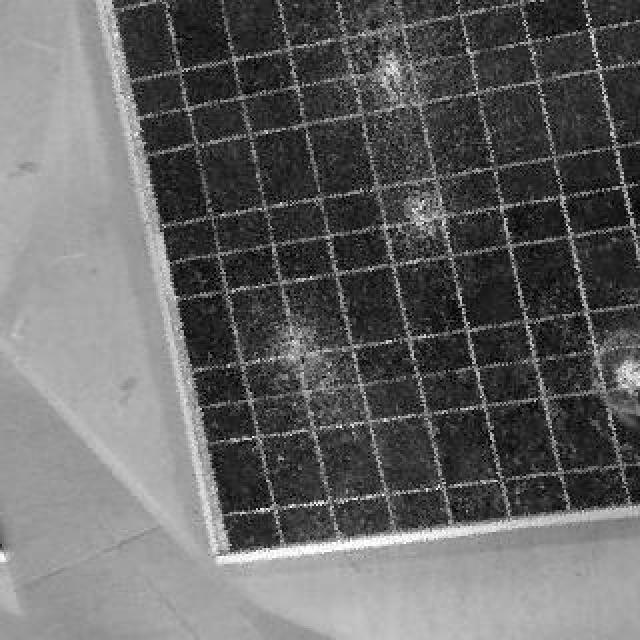Physical-damage: (282, 22, 531, 296), (208, 311, 465, 513), (512, 332, 640, 524)
